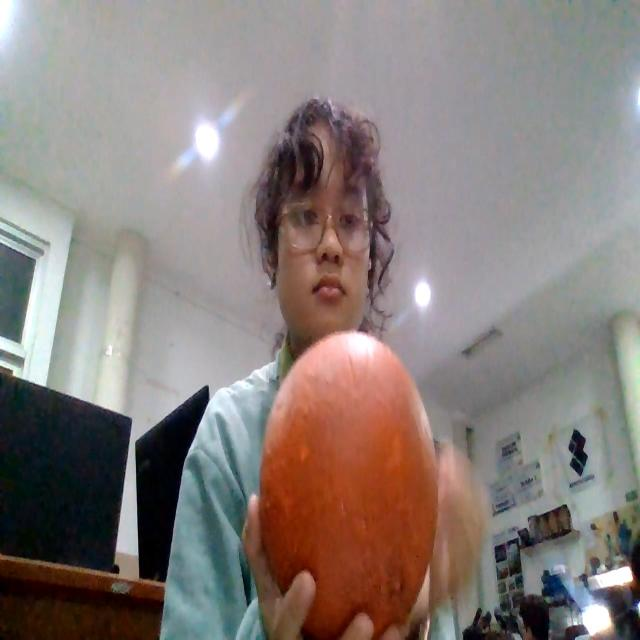ball: (258, 329, 439, 638)
